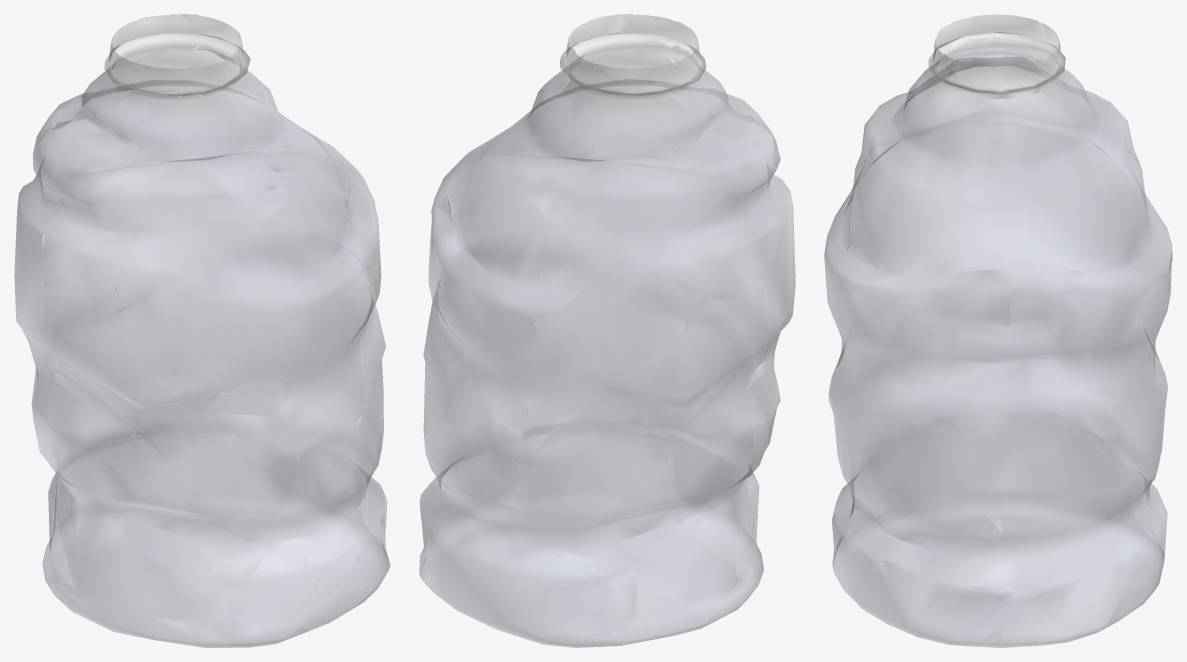
File: 07_1_nj_et_cc_s_trs.glb
3 views of the same model, side by side, from view 1: azimuth 30°, elevation 25°; view 2: azimuth 150°, elevation 25°; view 3: azimuth 270°, elevation 25° (orthographic). The views are drawn at different scales.
Visible parts, largest first — view 1: tripo_material_373b0c34-68a8-413f-8876-a308a7c492da.009; view 2: tripo_material_373b0c34-68a8-413f-8876-a308a7c492da.009; view 3: tripo_material_373b0c34-68a8-413f-8876-a308a7c492da.009.
Part boxes in pixels (x1,y1,x2,y2): tripo_material_373b0c34-68a8-413f-8876-a308a7c492da.009: (14,14,390,647); tripo_material_373b0c34-68a8-413f-8876-a308a7c492da.009: (419,14,795,647); tripo_material_373b0c34-68a8-413f-8876-a308a7c492da.009: (824,14,1172,647).
Bounding box in the file's own units: 0.1222 × 0.19 × 0.1147.
1 material, 1 textured.
